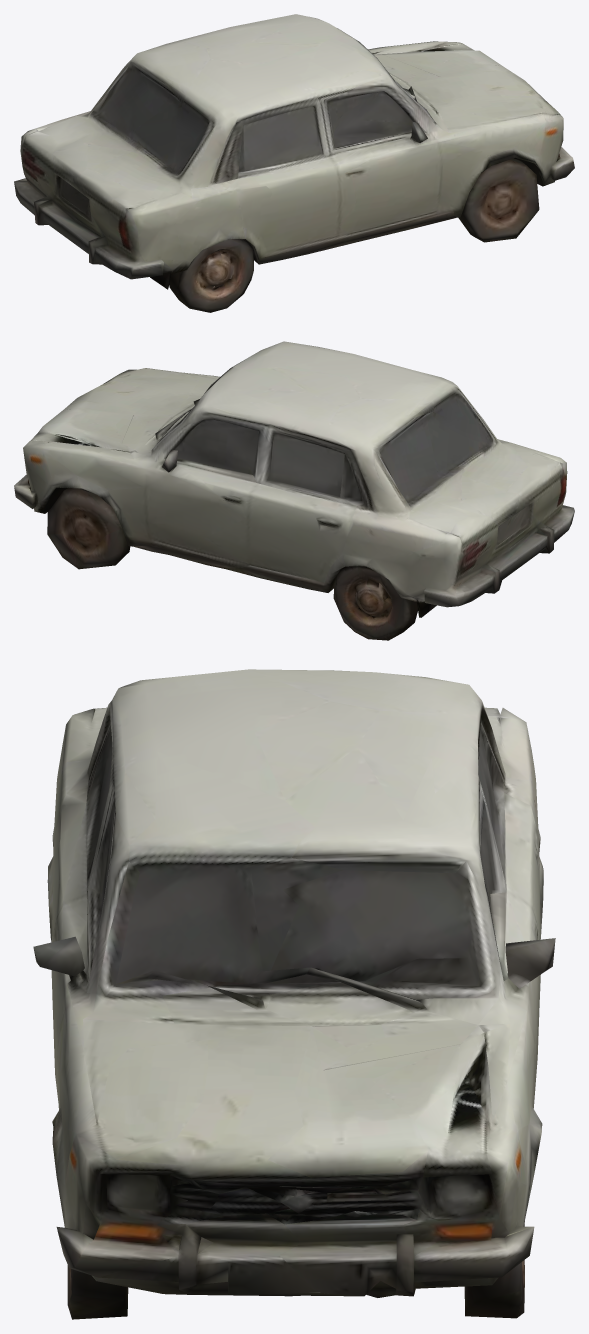
File: e_vaz_crashed.glb
3 renders of one model, top to bottom at view 1: azimuth 30°, elevation 25°; view 2: azimuth 150°, elevation 25°; view 3: azimuth 270°, elevation 25°, orthographic. The views are drawn at different scales.
Parts seen in each view (by area): view 1: tripo_node_67158daf-d94d-42fb-ba8a-a4a06d730e77; view 2: tripo_node_67158daf-d94d-42fb-ba8a-a4a06d730e77; view 3: tripo_node_67158daf-d94d-42fb-ba8a-a4a06d730e77.
Boxes of the visible parts, bbox=[...] form: tripo_node_67158daf-d94d-42fb-ba8a-a4a06d730e77: bbox=[14, 14, 574, 312]; tripo_node_67158daf-d94d-42fb-ba8a-a4a06d730e77: bbox=[14, 341, 574, 640]; tripo_node_67158daf-d94d-42fb-ba8a-a4a06d730e77: bbox=[33, 669, 555, 1319].
Bounding box in the file's own units: 1 × 0.3959 × 0.4865.
Materials: 1 (1 with a texture image).
